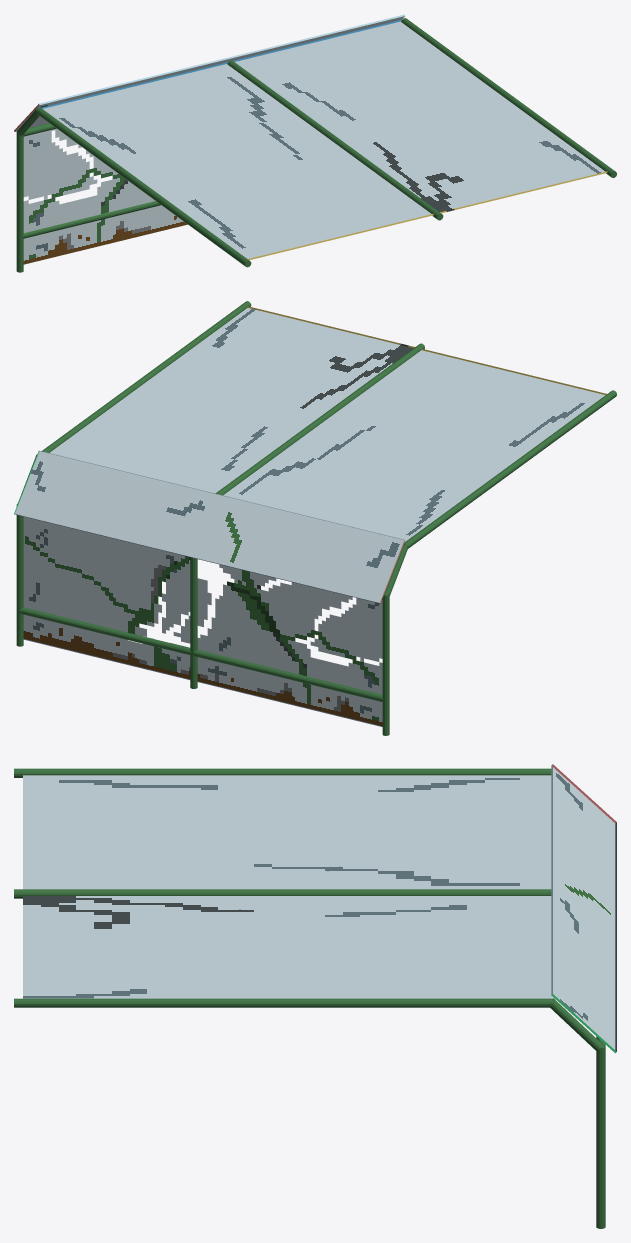
File: Greenhouse2.gltf
3 views of the same model, one above another, from view 1: azimuth 30°, elevation 25°; view 2: azimuth 150°, elevation 25°; view 3: azimuth 270°, elevation 25° (orthographic). The views are drawn at different scales.
Parts seen in each view (by area): view 1: cube (×3), cylinder (×5); view 2: cube (×3), cylinder (×7); view 3: cube (×2), cylinder (×5).
Boxes of the visible parts, x1=… form: cube (×3): x1=14, y1=14, x2=607, y2=264; cylinder (×5): x1=16, y1=18, x2=616, y2=272; cube (×3): x1=14, y1=306, x2=606, y2=726; cylinder (×7): x1=16, y1=301, x2=616, y2=735; cube (×2): x1=23, y1=764, x2=616, y2=1053; cylinder (×5): x1=14, y1=768, x2=605, y2=1228.
Bounding box in the file's own units: 0.7625 × 0.3547 × 0.8315.
4 materials, 4 textured.
